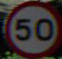Speed limit: (3, 1, 57, 50)
